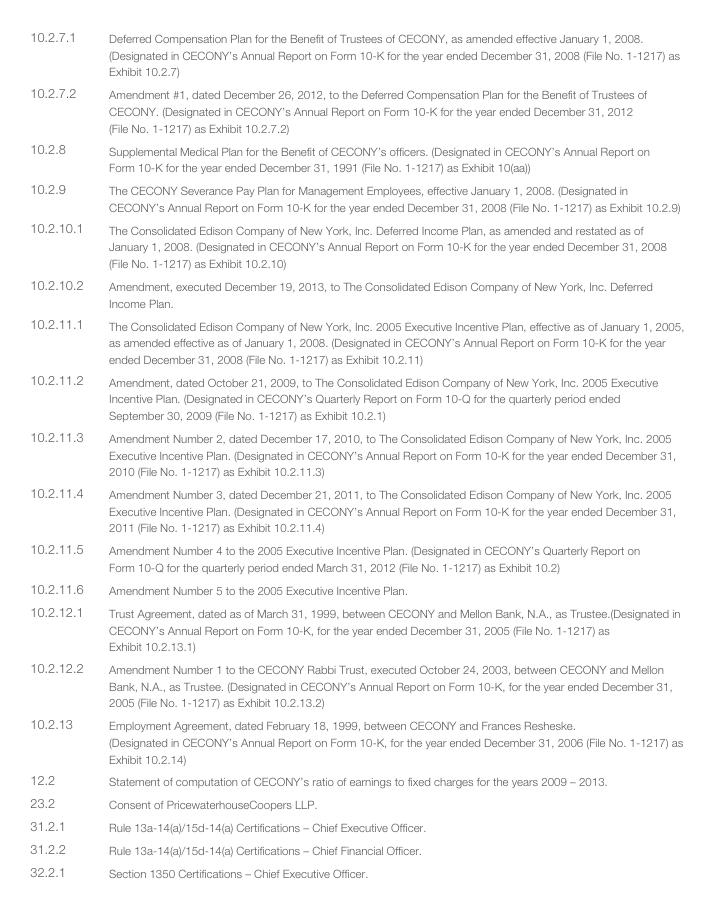table: (29, 28, 683, 879)
table column: (95, 28, 683, 879), (29, 28, 95, 879)
table row: (29, 424, 683, 481), (29, 599, 683, 656), (29, 81, 683, 137), (29, 216, 683, 272), (29, 312, 683, 368), (29, 368, 683, 424), (29, 481, 683, 537), (29, 656, 683, 712), (29, 712, 683, 768), (29, 28, 683, 81), (29, 137, 683, 177), (29, 272, 683, 312), (29, 177, 683, 216), (29, 537, 683, 576), (29, 576, 683, 599), (29, 768, 683, 791), (29, 791, 683, 814), (29, 814, 683, 837), (29, 837, 683, 860), (29, 860, 683, 879)
